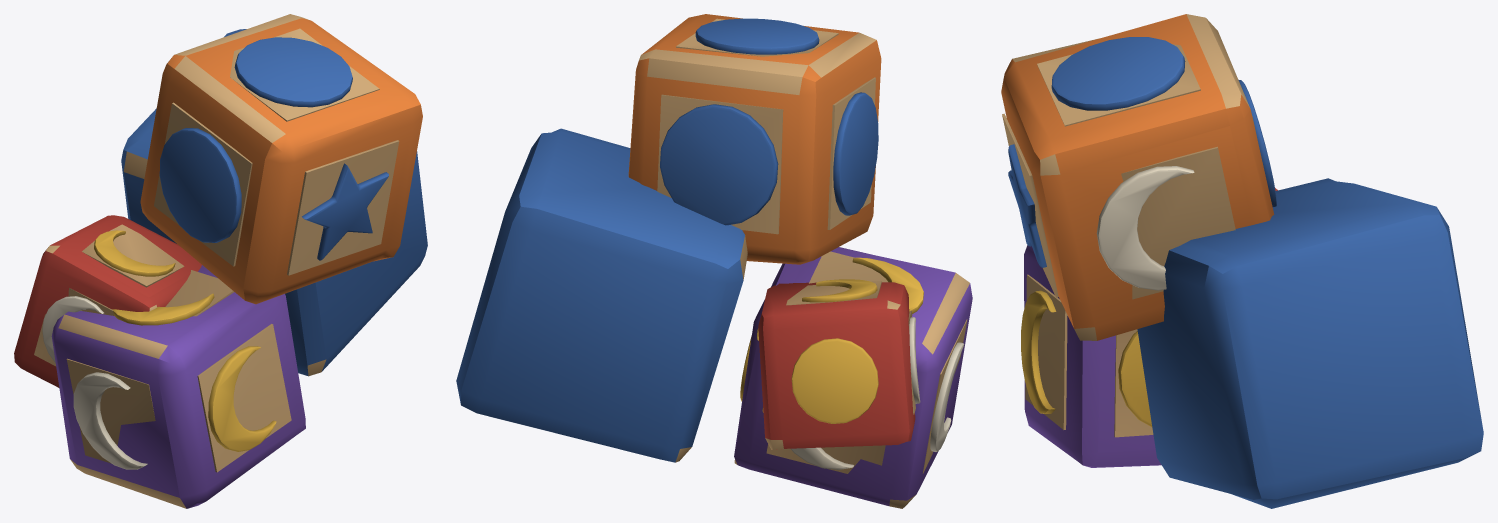
Rendered from den_toy_pile_b.glb.
The picture shows the model from 3 angles, left to right: view 1: azimuth 30°, elevation 25°; view 2: azimuth 150°, elevation 25°; view 3: azimuth 270°, elevation 25°; orthographic projection. The views are drawn at different scales.
Visible parts, largest first — view 1: den_toy_pile_b; view 2: den_toy_pile_b; view 3: den_toy_pile_b.
Boxes of the visible parts, x1=… form: den_toy_pile_b: x1=14, y1=14, x2=427, y2=508; den_toy_pile_b: x1=456, y1=14, x2=972, y2=508; den_toy_pile_b: x1=1001, y1=14, x2=1483, y2=508.
Bounding box in the file's own units: 4.31 × 4 × 3.86.
